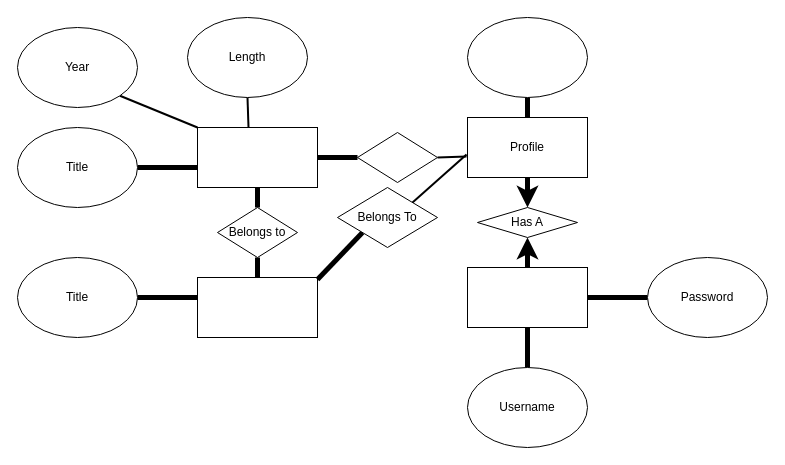
Some shapes in this 785 by 465 pixel diagram are drawn without their labels. The centre of each missing label's shape, as x and y in pixels:
"Genre" belongs at [257,307].
"Movie" belongs at [257,157].
"Name" belongs at [527,57].
"User Account" belongs at [527,297].
"Watched By" belongs at [397,157].
